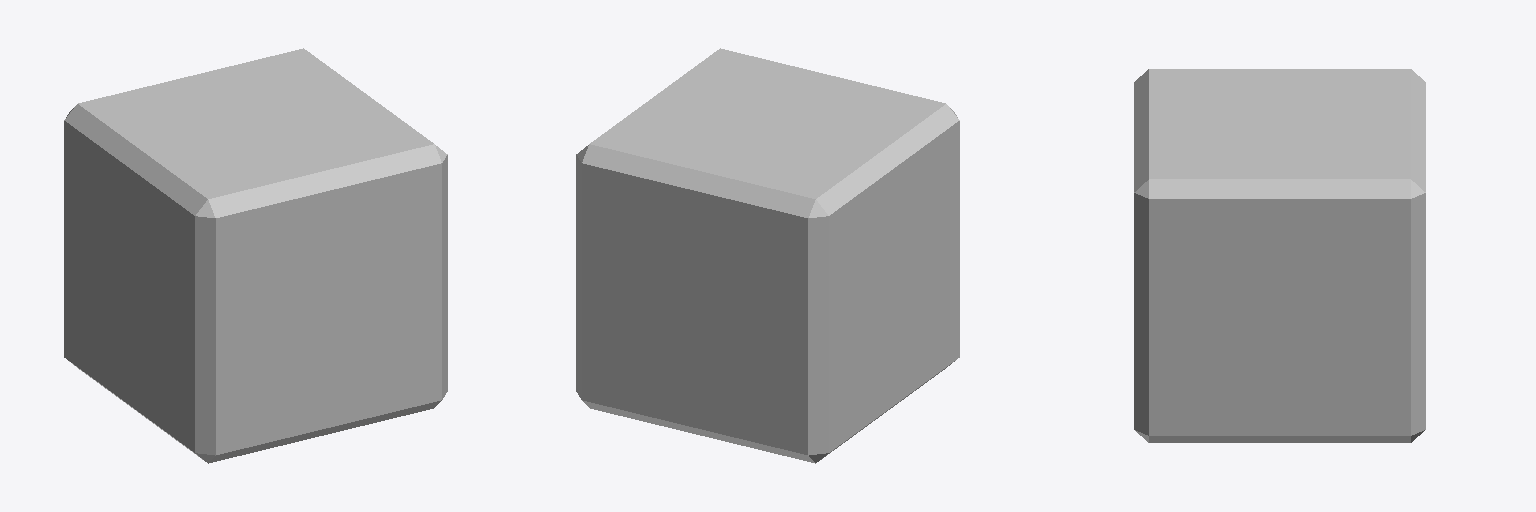
The model's file is RengaBlock.obj.
3 views of the same model, side by side, from view 1: azimuth 30°, elevation 25°; view 2: azimuth 150°, elevation 25°; view 3: azimuth 270°, elevation 25° (orthographic).
Parts seen in each view (by area): view 1: 立方体; view 2: 立方体; view 3: 立方体.
Part boxes in pixels (left/top/right/bottom): 立方体: left=64, top=48, right=447, bottom=463; 立方体: left=576, top=48, right=959, bottom=463; 立方体: left=1134, top=69, right=1425, bottom=442.
Bounding box in the file's own units: 1.45 × 1.45 × 1.45.